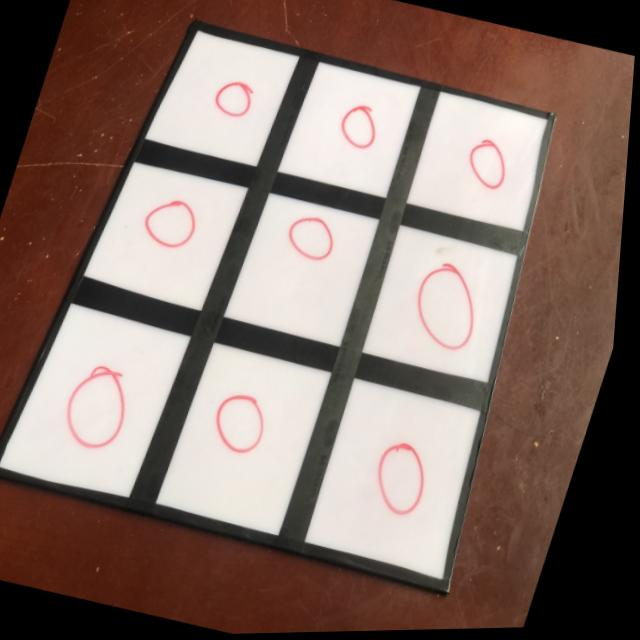o: (403, 258, 500, 363), (58, 353, 152, 460), (367, 431, 451, 529), (205, 384, 284, 469), (138, 189, 210, 257), (281, 209, 347, 269), (458, 136, 519, 200), (203, 67, 264, 127), (331, 99, 390, 161)
table: (0, 2, 586, 602)
